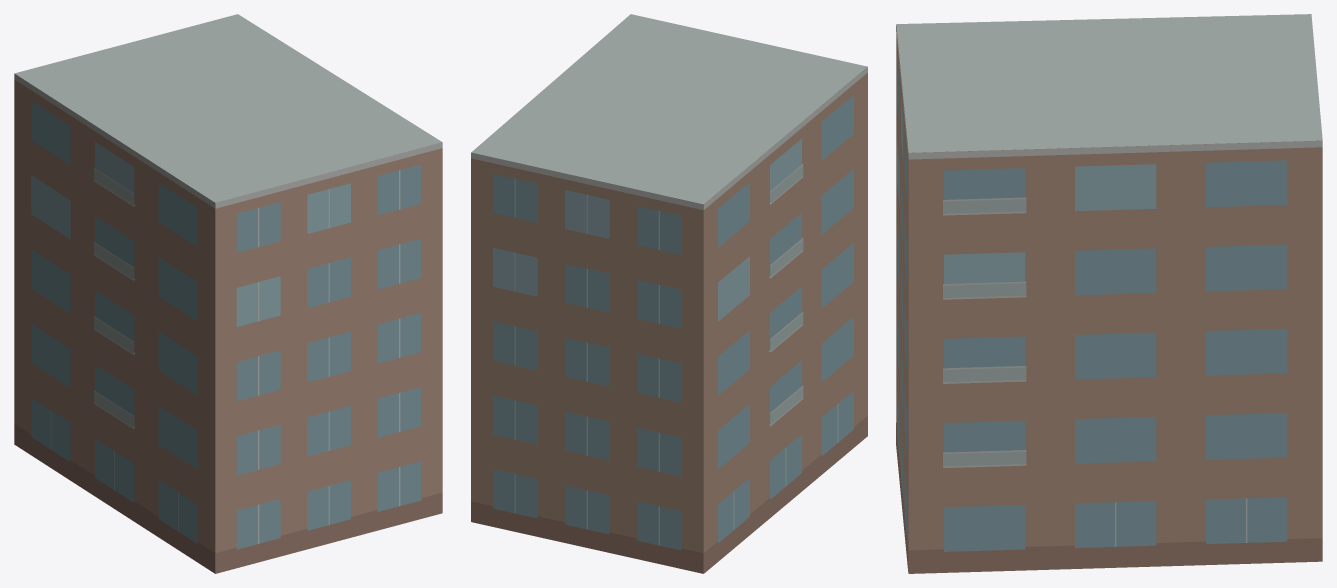
The model's file is survey-upis-32880496.glb.
3 views of the same model, side by side, from view 1: azimuth 30°, elevation 25°; view 2: azimuth 150°, elevation 25°; view 3: azimuth 270°, elevation 25° (orthographic). The views are drawn at different scales.
Visible parts, largest first — view 1: survey-upis-32880496.tmp; view 2: survey-upis-32880496.tmp; view 3: survey-upis-32880496.tmp.
Part boxes in pixels (box(x1,y1,x2,y2)): survey-upis-32880496.tmp: box(14, 14, 442, 573); survey-upis-32880496.tmp: box(471, 14, 867, 573); survey-upis-32880496.tmp: box(896, 14, 1322, 573).
Size of the model in its own units: 10.9 by 15.4 by 14.15.
